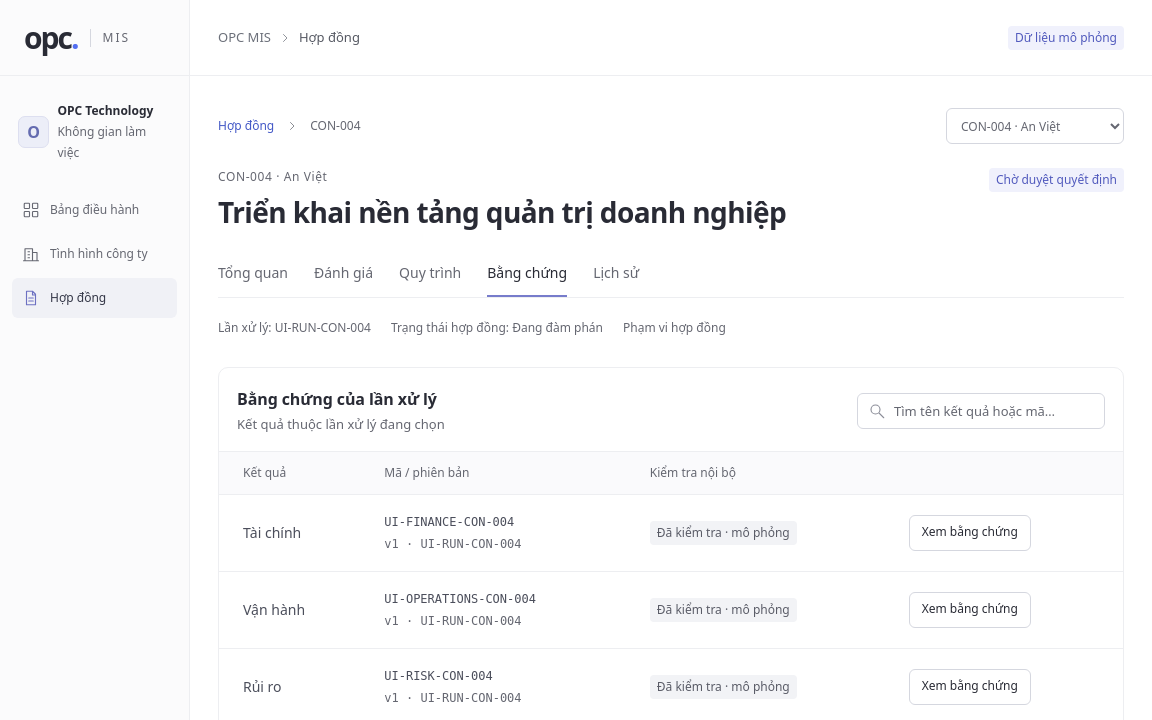
isolated executive preview › searches evidence using its Vietnamese display name and preserves IDs
Type "rủi ro" into the field named "Tìm bằng chứng" at coordinates (994, 411), box [894,395,1094,427]
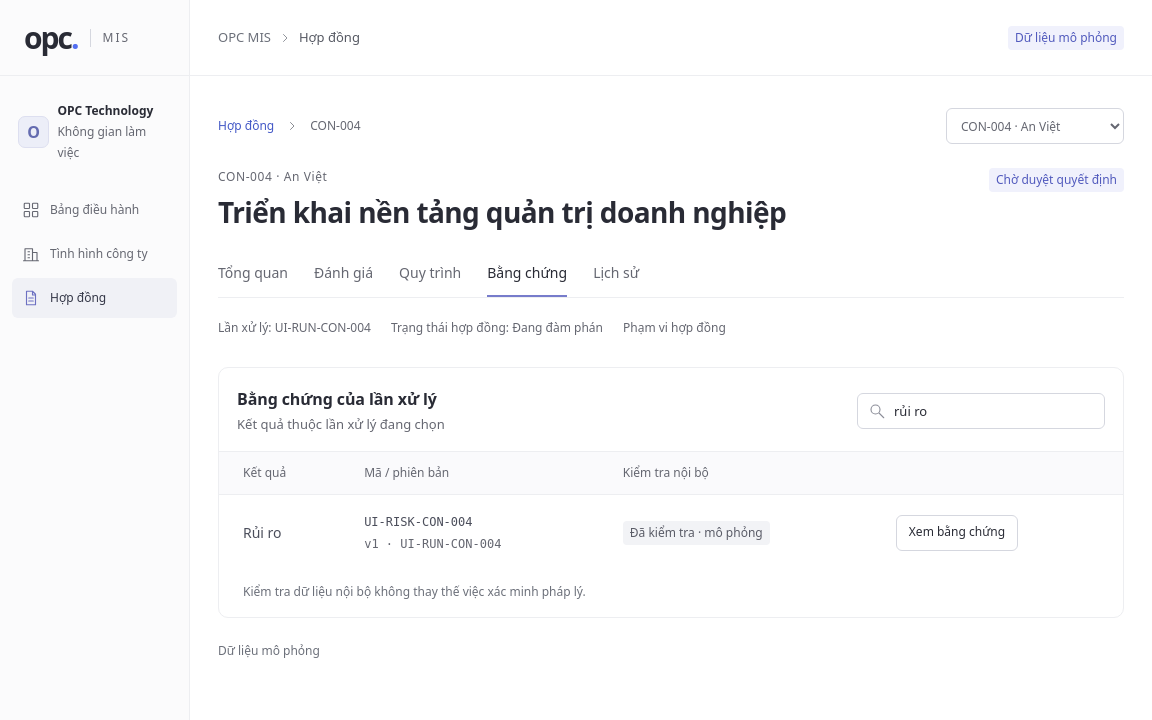
Expected: the text "UI-RISK-CON-004" is shown, [364,515,472,529]
Now the text "UI-FINANCE-CON-004" is gone
